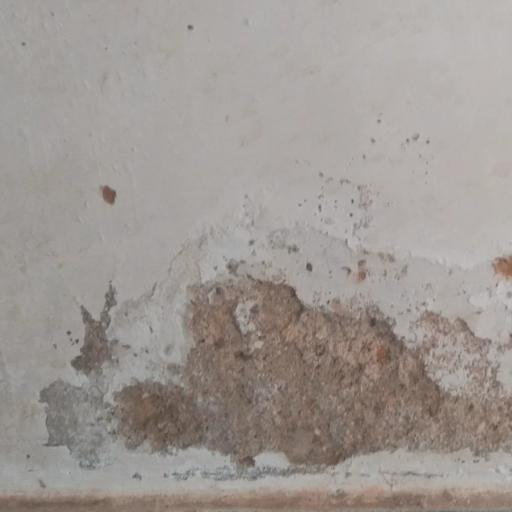spalling: (51, 195, 512, 479)
